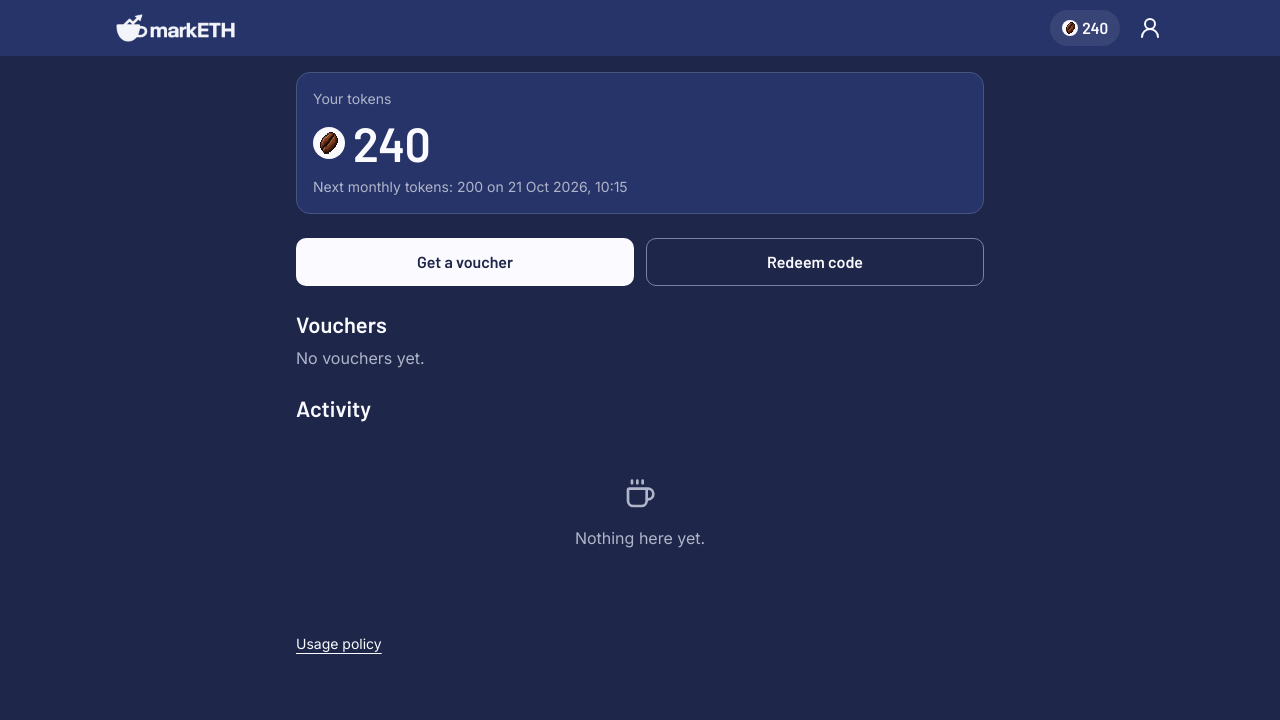
Test: the redeem sheet › takes its length from /config
Step 1. Click the button "Redeem code" → (815, 262), box [646,238,984,286]
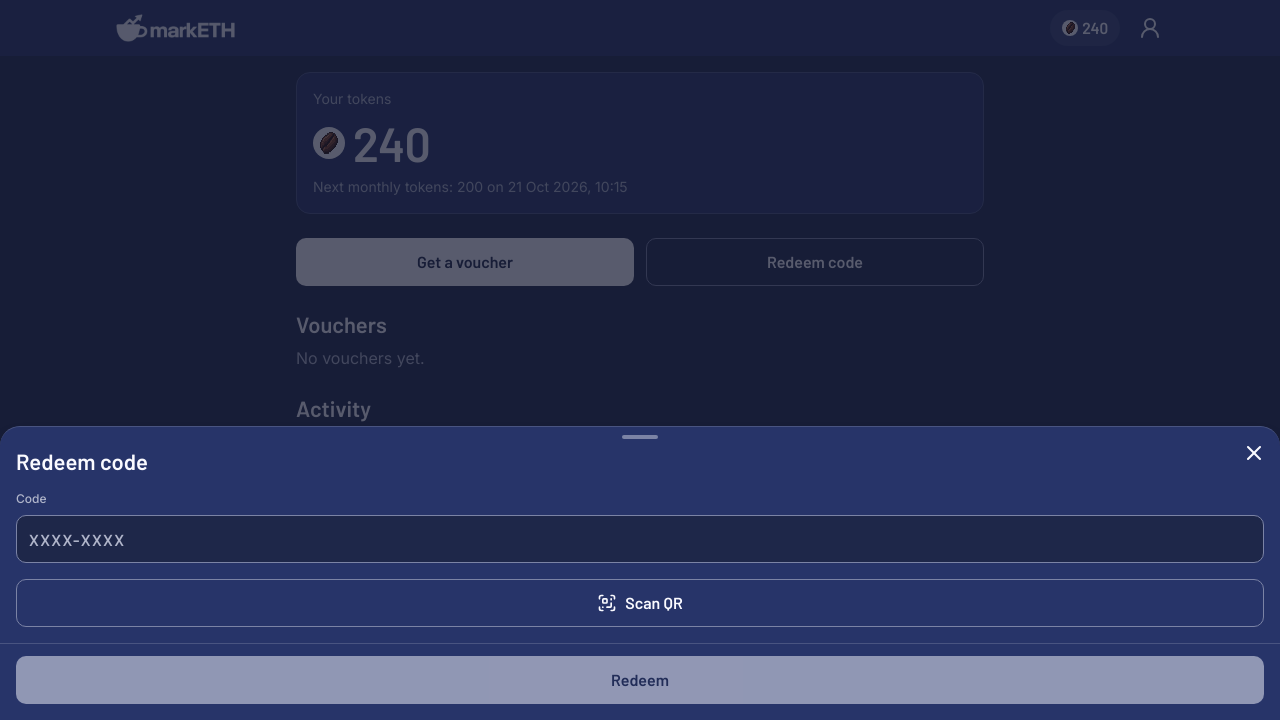
Step 2. Type "4f7kq2m9xab3" into the field labelled "Code" → (640, 539), box [16,515,1264,563]
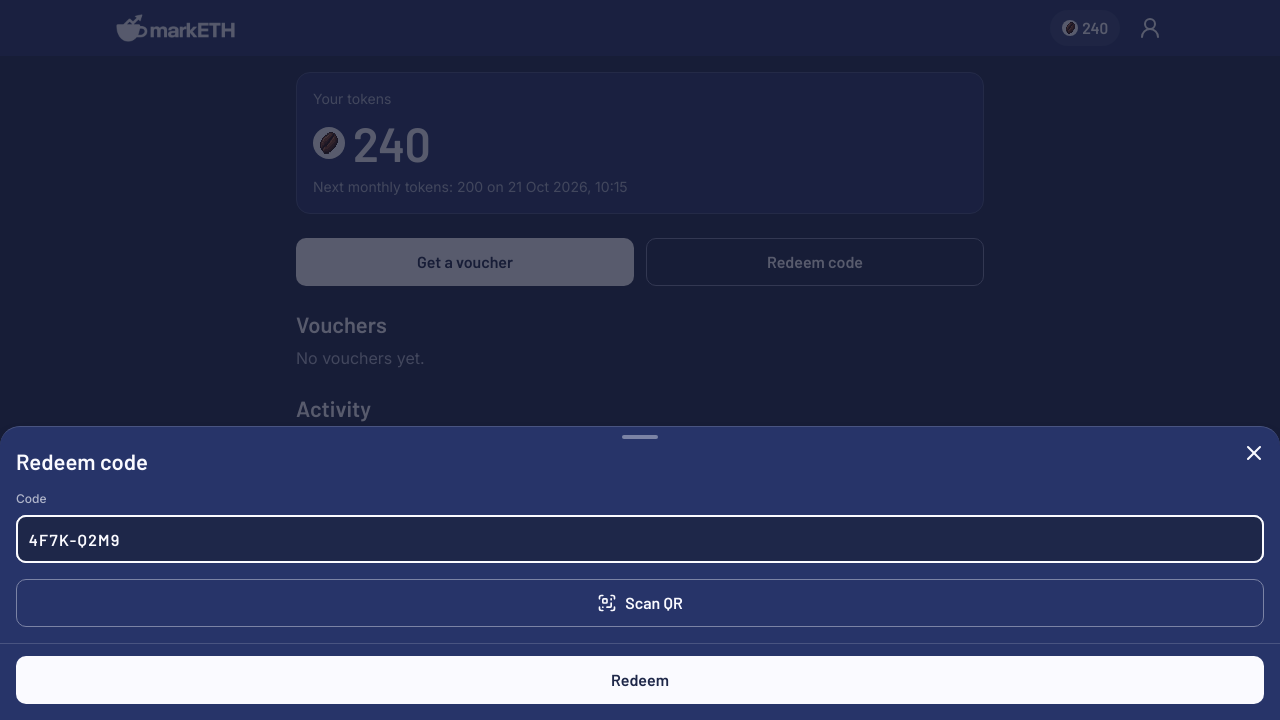
expect the field labelled "Code" holds "4F7K-Q2M9": met, box [16,515,1264,563]
expect the button "Redeem" is enabled: met, box [16,656,1264,704]
